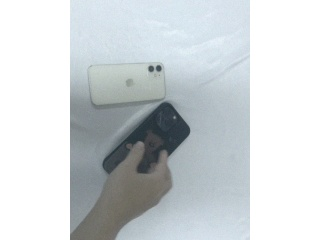phone: (102, 101, 191, 175), (87, 62, 166, 107)
